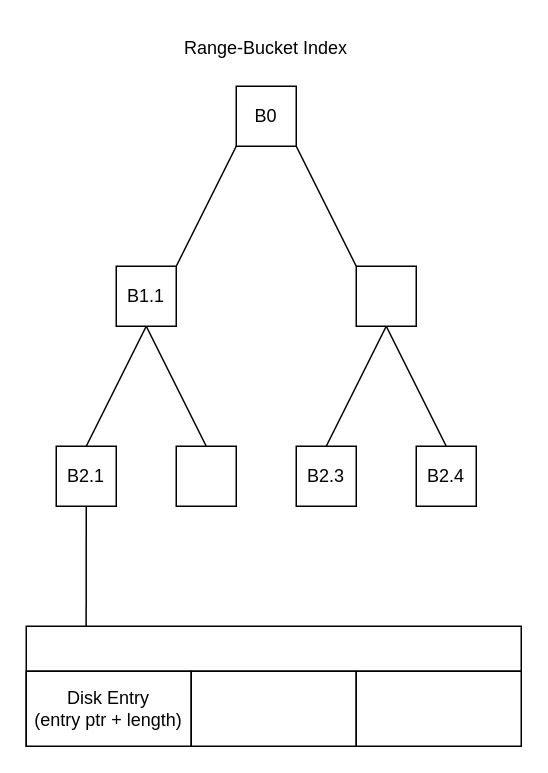
Image size: 548x773. Some labels were removed from this diagram. The box of each missing label's shape, as (x1, y1, x2, y2) in pixels:
B1.2: (355, 265, 416, 326)
B2.2: (175, 445, 236, 506)
Disk Entry Pointer (same as in direct-index): (25, 625, 521, 746)
